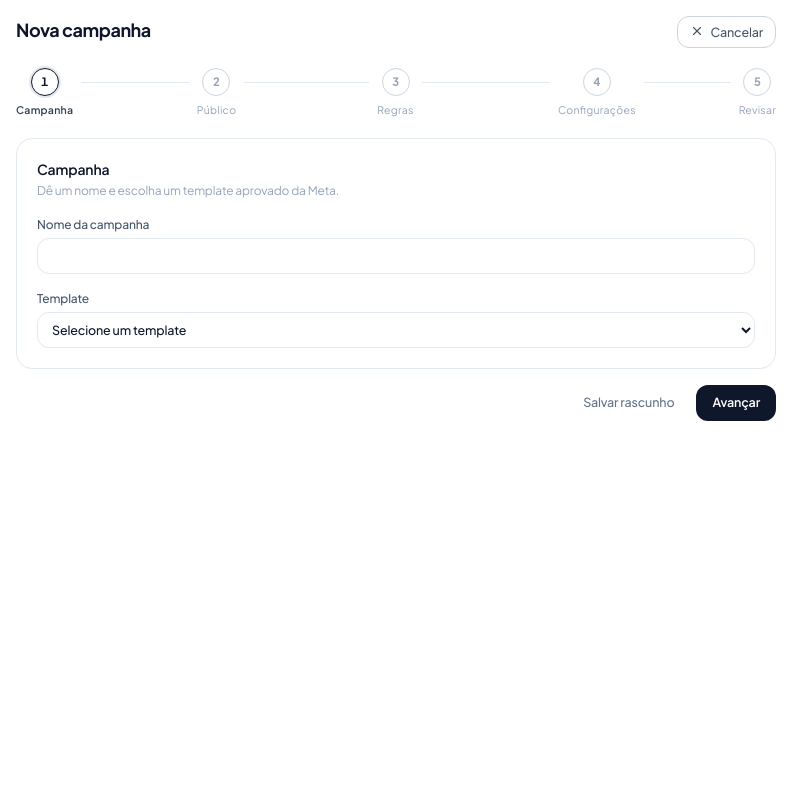
CampanhaWizard › fluxo completo até a etapa 5 mostra o preview com a variável mapeada (exemplo)
Type "Reativação" into the field labelled "Nome da campanha". click: [396, 256]
box: [37, 238, 755, 274]
Select "Promo" in the dropdown labelled "Template". click: [396, 330]
box: [37, 312, 755, 348]
Click the button "Avançar". click: [736, 403]
box: [696, 385, 776, 421]
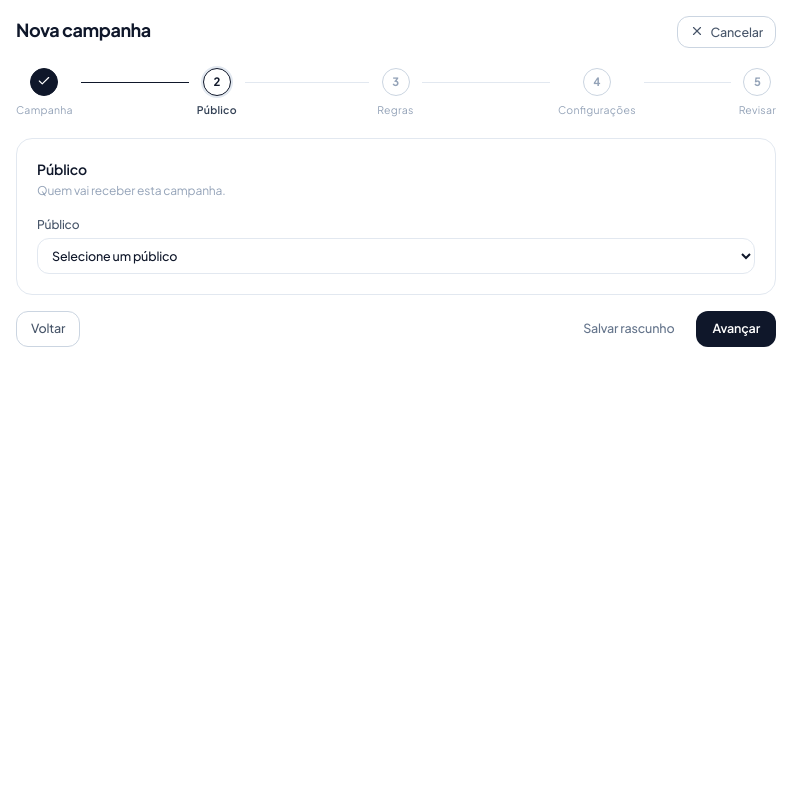
Check: the dropdown labelled "Público" is shown
Select "Arquivados" in the dropdown labelled "Público". click: [396, 256]
box: [37, 238, 755, 274]
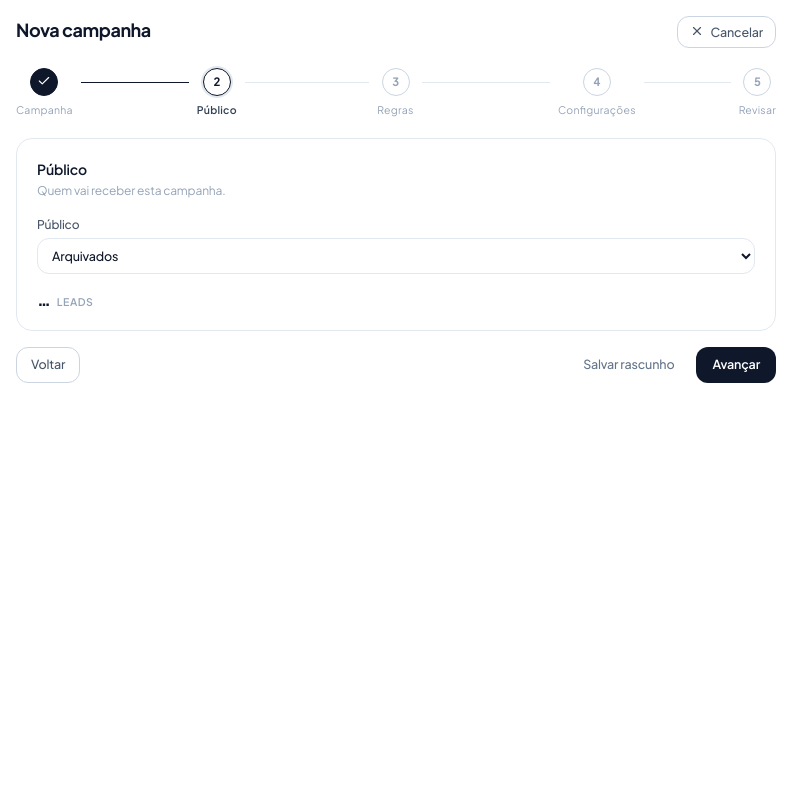
Click the button "Avançar". click: [736, 364]
box: [696, 346, 776, 382]
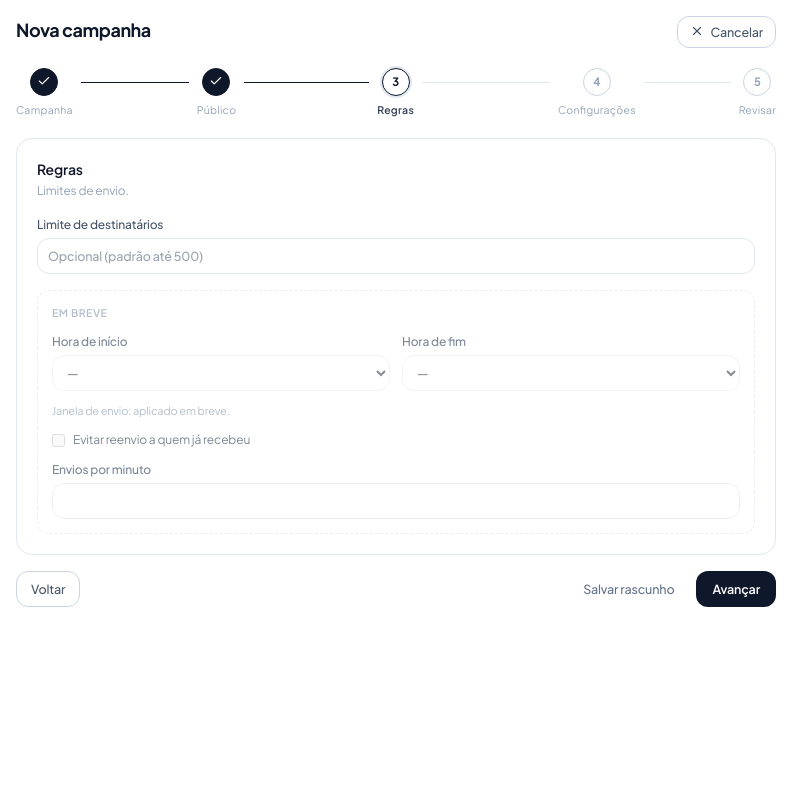
Click the button "Avançar". click: [736, 589]
box: [696, 571, 776, 607]
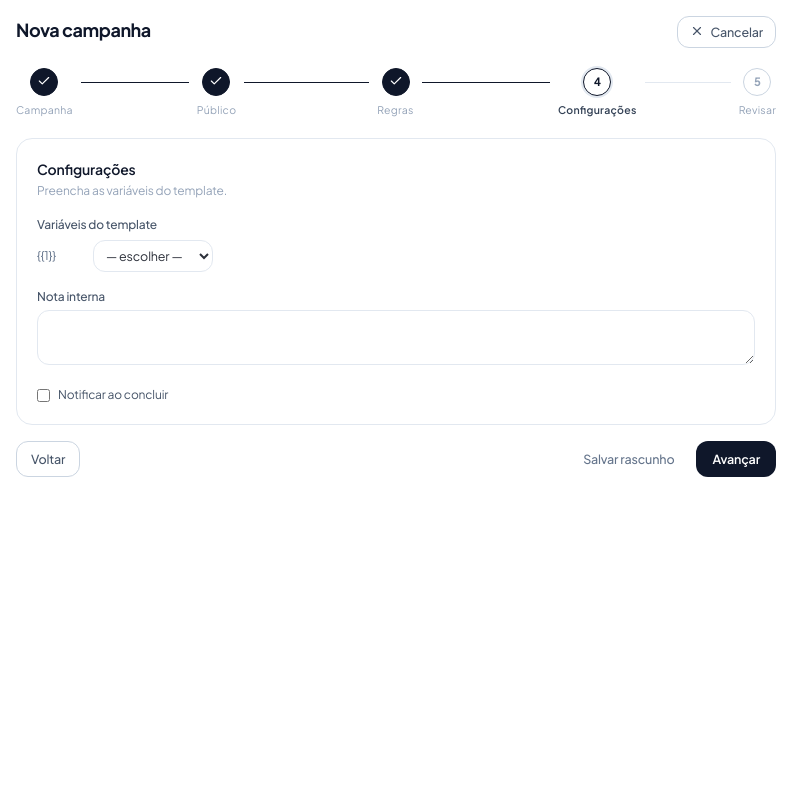
Select "Nome do lead" in the dropdown named "Variável 1". click: [153, 256]
box: [93, 240, 213, 272]
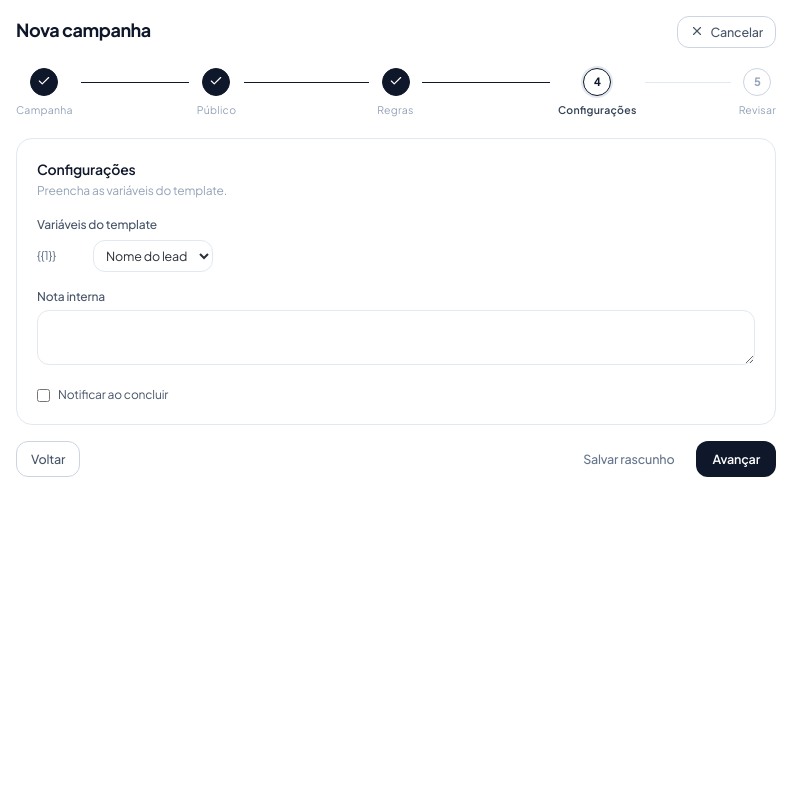
Click the button "Avançar". click: [736, 459]
box: [696, 441, 776, 477]
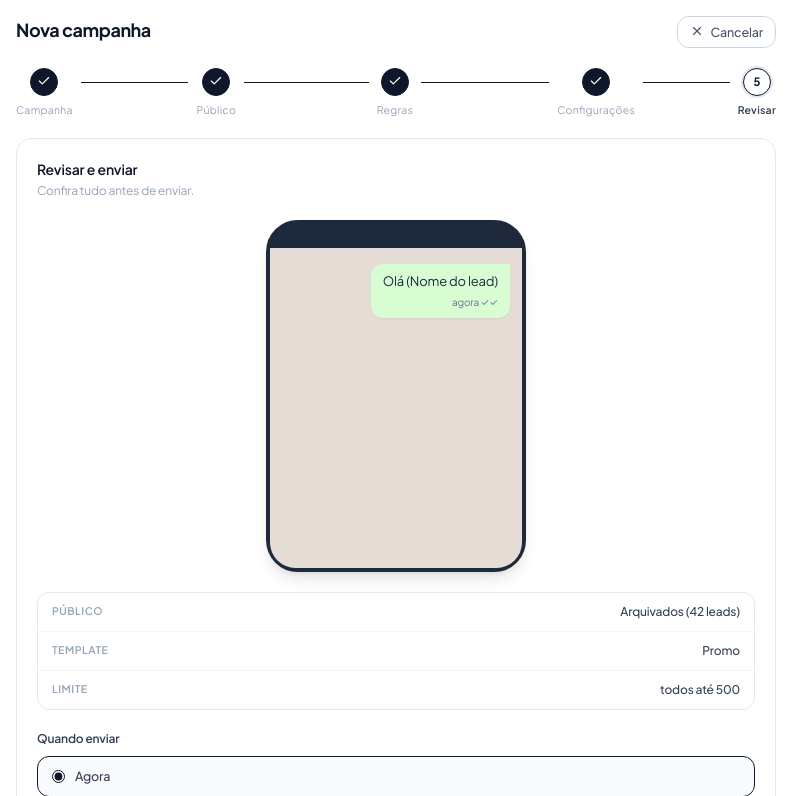
Check: the element with test id "whatsapp-preview-bubble" shows "Olá (Nome do lead)", box [383, 273, 498, 289]
